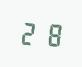eight: (40, 19, 60, 47)
two: (19, 18, 39, 46)
